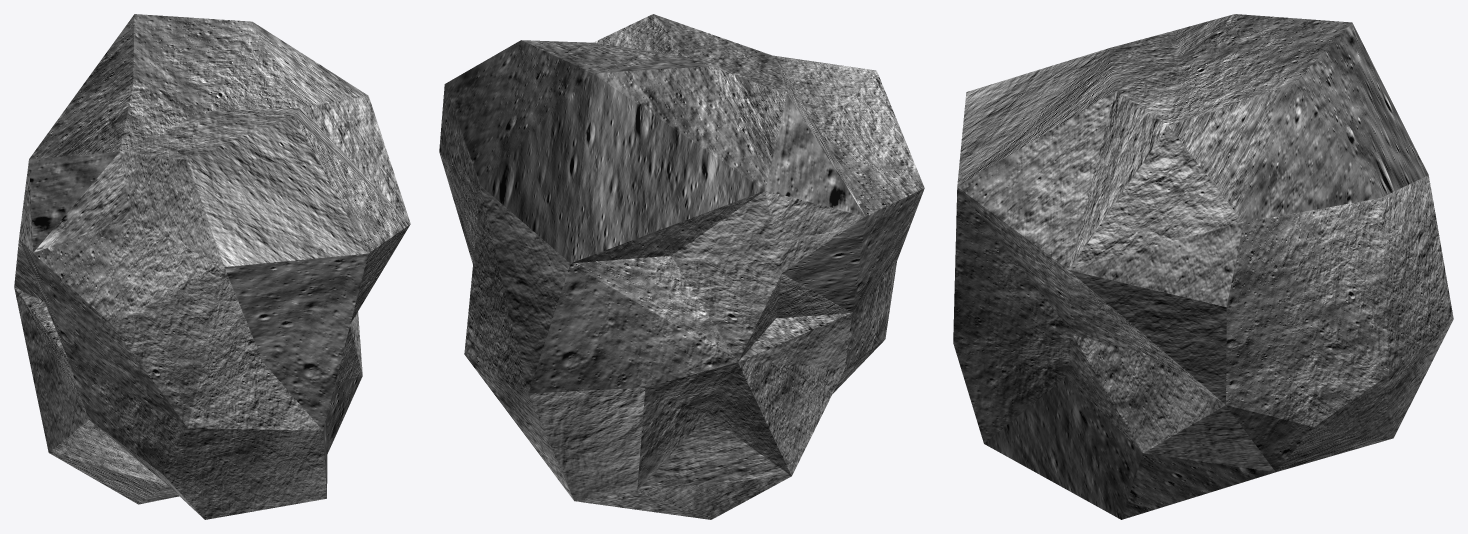
Rendered from asteroidLD.obj.
3 views of the same model, side by side, from view 1: azimuth 30°, elevation 25°; view 2: azimuth 150°, elevation 25°; view 3: azimuth 270°, elevation 25° (orthographic). The views are drawn at different scales.
Parts seen in each view (by area): view 1: rock.003; view 2: rock.003; view 3: rock.003.
Boxes of the visible parts, x1=… form: rock.003: x1=14, y1=14, x2=410, y2=519; rock.003: x1=439, y1=14, x2=924, y2=519; rock.003: x1=953, y1=14, x2=1453, y2=519.
Size of the model in its own units: 2.59 by 2.89 by 2.72.
